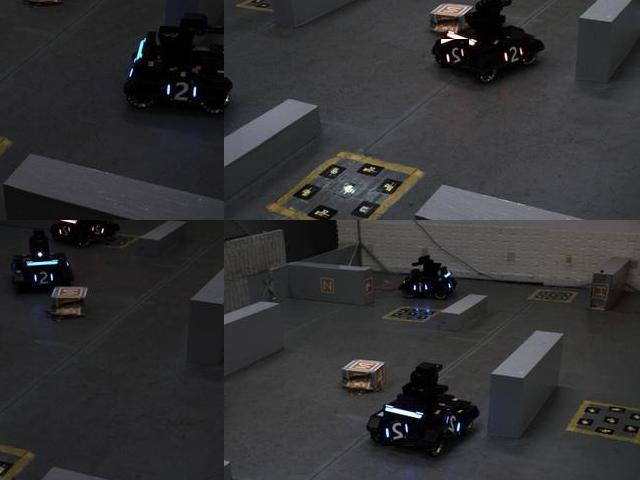armor: (161, 76, 200, 107), (382, 418, 415, 448), (442, 40, 471, 70), (443, 410, 467, 438), (500, 45, 525, 67), (27, 270, 59, 286), (411, 278, 433, 296), (88, 222, 110, 239), (56, 224, 74, 240)
